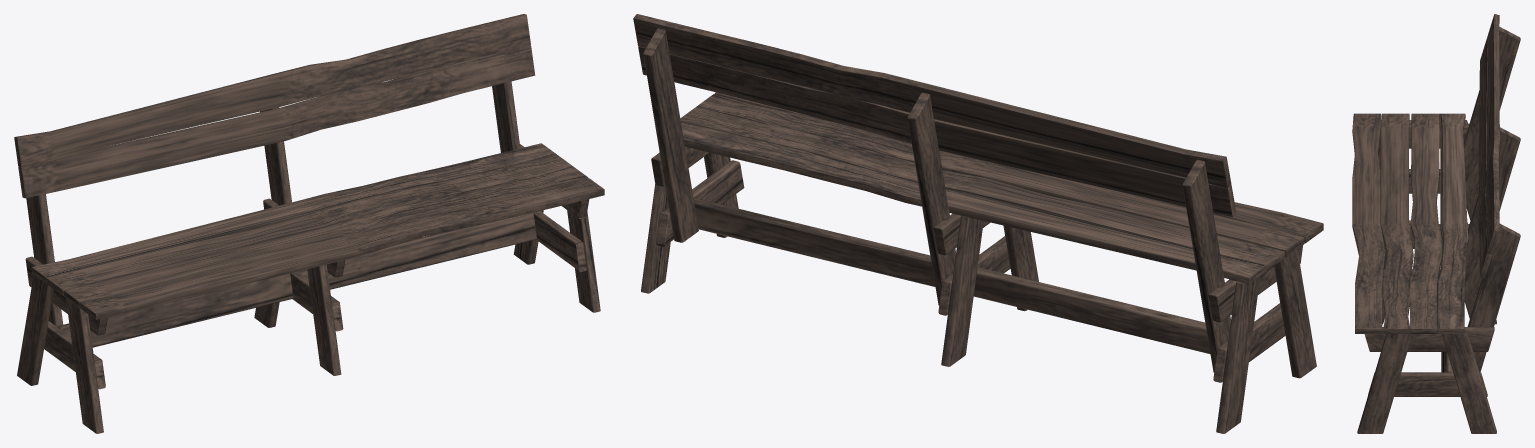
Rendered from Banco_Longo_NEC_CENA.fbx.
3 views of the same model, side by side, from view 1: azimuth 30°, elevation 25°; view 2: azimuth 150°, elevation 25°; view 3: azimuth 270°, elevation 25° (orthographic). The views are drawn at different scales.
Parts seen in each view (by area): view 1: BancoLongo; view 2: BancoLongo; view 3: BancoLongo.
Part boxes in pixels (x1,y1,x2,y2): BancoLongo: (14,14,604,433); BancoLongo: (633,14,1323,433); BancoLongo: (1352,14,1520,433).
Size of the model in its own units: 185 by 82.35 by 60.64.
1 material, 1 textured.
